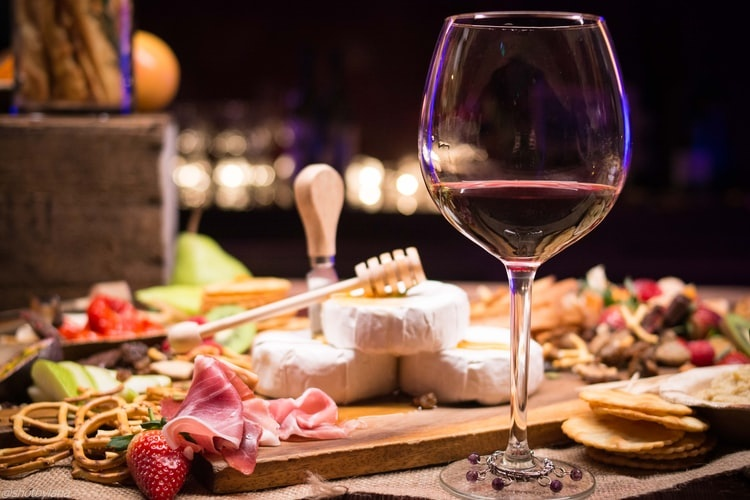whiskey: (425, 13, 633, 408)
